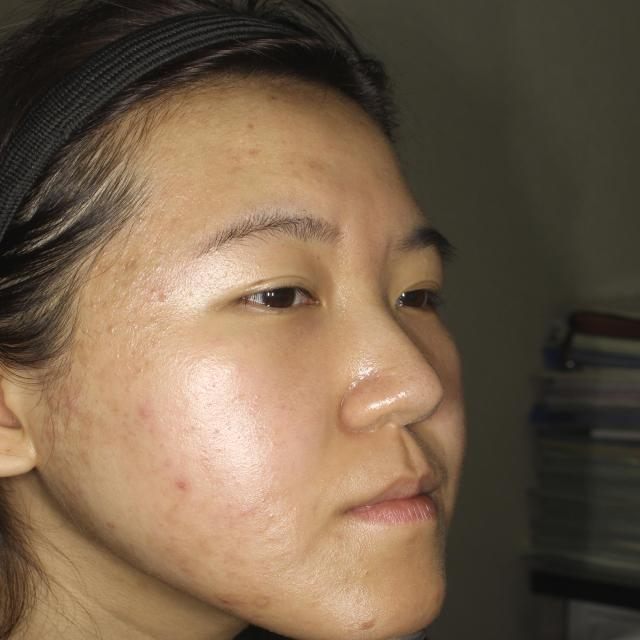acne: (70, 411, 109, 445), (133, 394, 169, 424), (224, 596, 267, 619), (166, 471, 202, 498), (351, 607, 384, 634), (237, 145, 267, 172)
